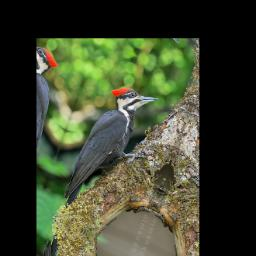Woodpecker: (54, 71, 167, 233)
